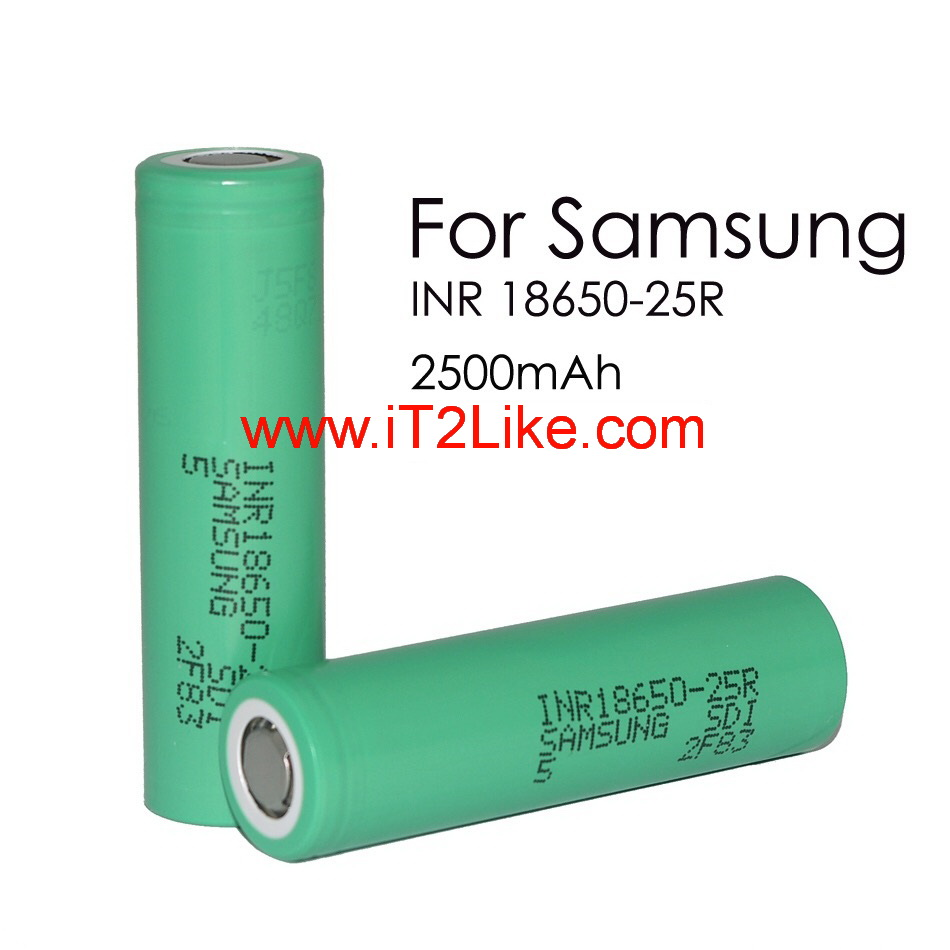Battery: (213, 570, 853, 869), (127, 138, 337, 838)
